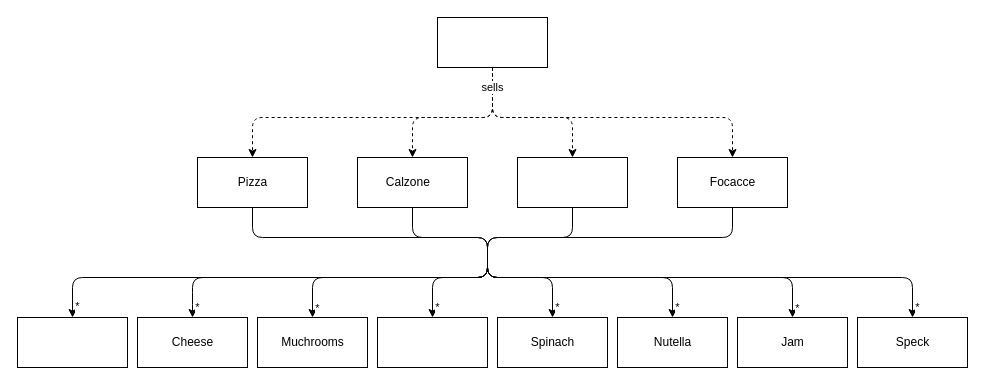
Image size: 985x385. Some labels were removed from this diagram. Here are the shapes that lost their labels. From the top down, the centre of each, then its label:
point (492, 42): Chiosco da Paolo
point (572, 182): Sandwitch
point (72, 342): Ham
point (432, 342): Gorgonzola
